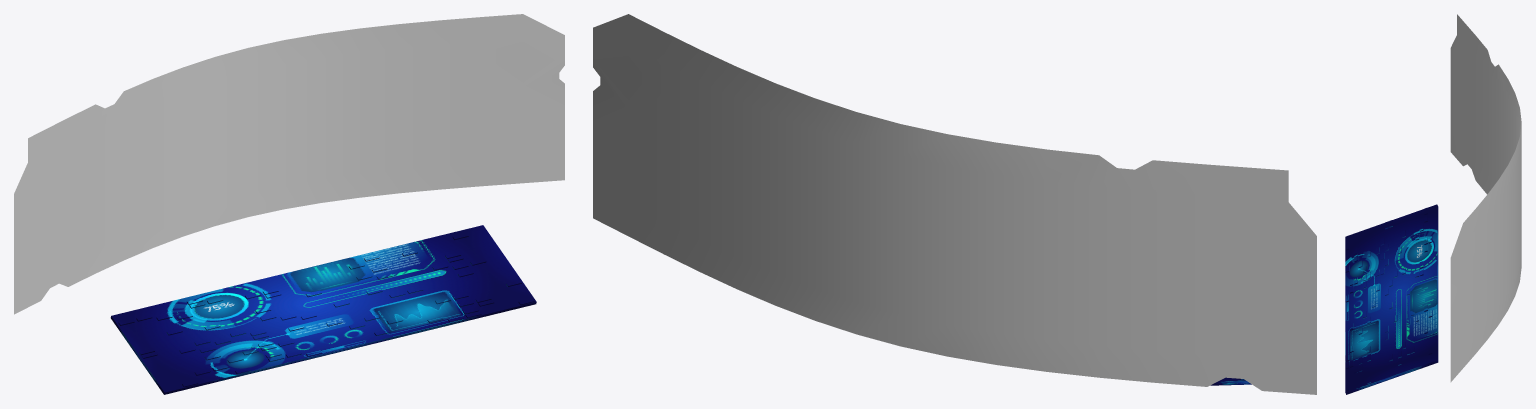
Rendered from web1.glb.
3 views of the same model, side by side, from view 1: azimuth 30°, elevation 25°; view 2: azimuth 150°, elevation 25°; view 3: azimuth 270°, elevation 25° (orthographic). The views are drawn at different scales.
Visible parts, largest first — view 1: Cube.001, Cube; view 2: Cube.001; view 3: Cube.001, Cube.
Part boxes in pixels (x1,y1,x2,y2): Cube.001: (14,14,564,314); Cube: (110,225,536,394); Cube.001: (593,14,1316,394); Cube.001: (1450,14,1521,382); Cube: (1345,204,1438,394).
Size of the model in its own units: 6.81 by 2.68 by 2.2.
2 materials, 1 textured.
